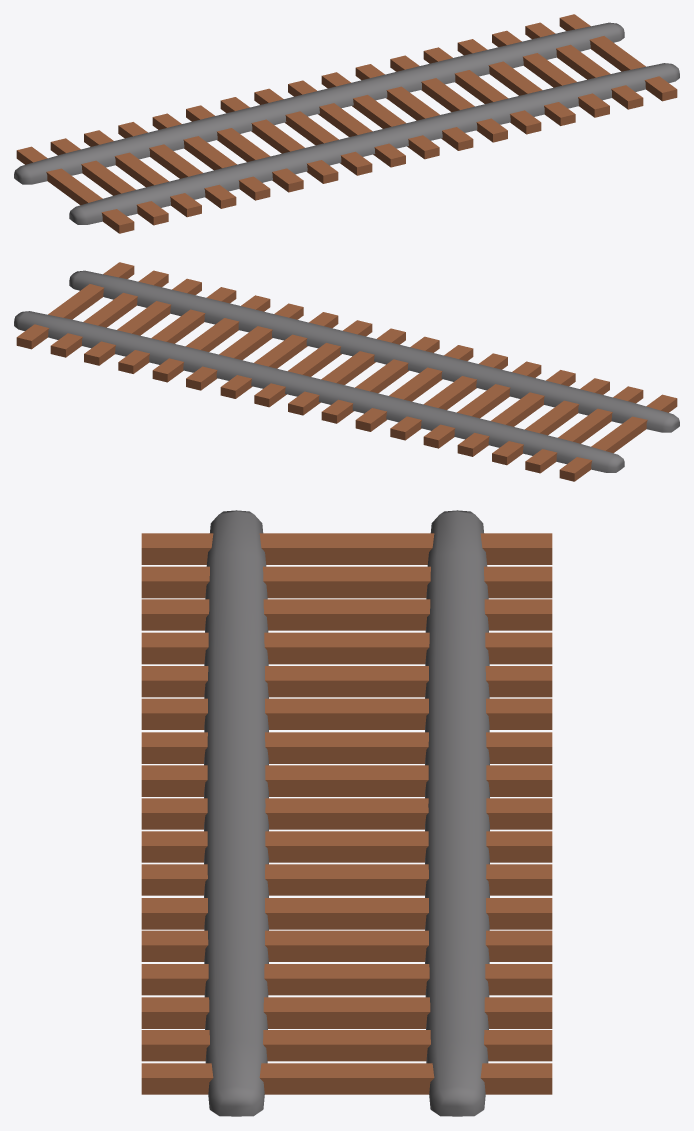
File: Straight_Rail.fbx
3 views of the same model, one above another, from view 1: azimuth 30°, elevation 25°; view 2: azimuth 150°, elevation 25°; view 3: azimuth 270°, elevation 25° (orthographic). The views are drawn at different scales.
Visible parts, largest first — view 1: Straight_Rail; view 2: Straight_Rail; view 3: Straight_Rail.
Boxes of the visible parts, x1,y1,x2,y2 form: Straight_Rail: (14, 14, 679, 233); Straight_Rail: (14, 262, 679, 481); Straight_Rail: (141, 510, 552, 1116).
Size of the model in its own units: 636 by 14.03 by 188.
